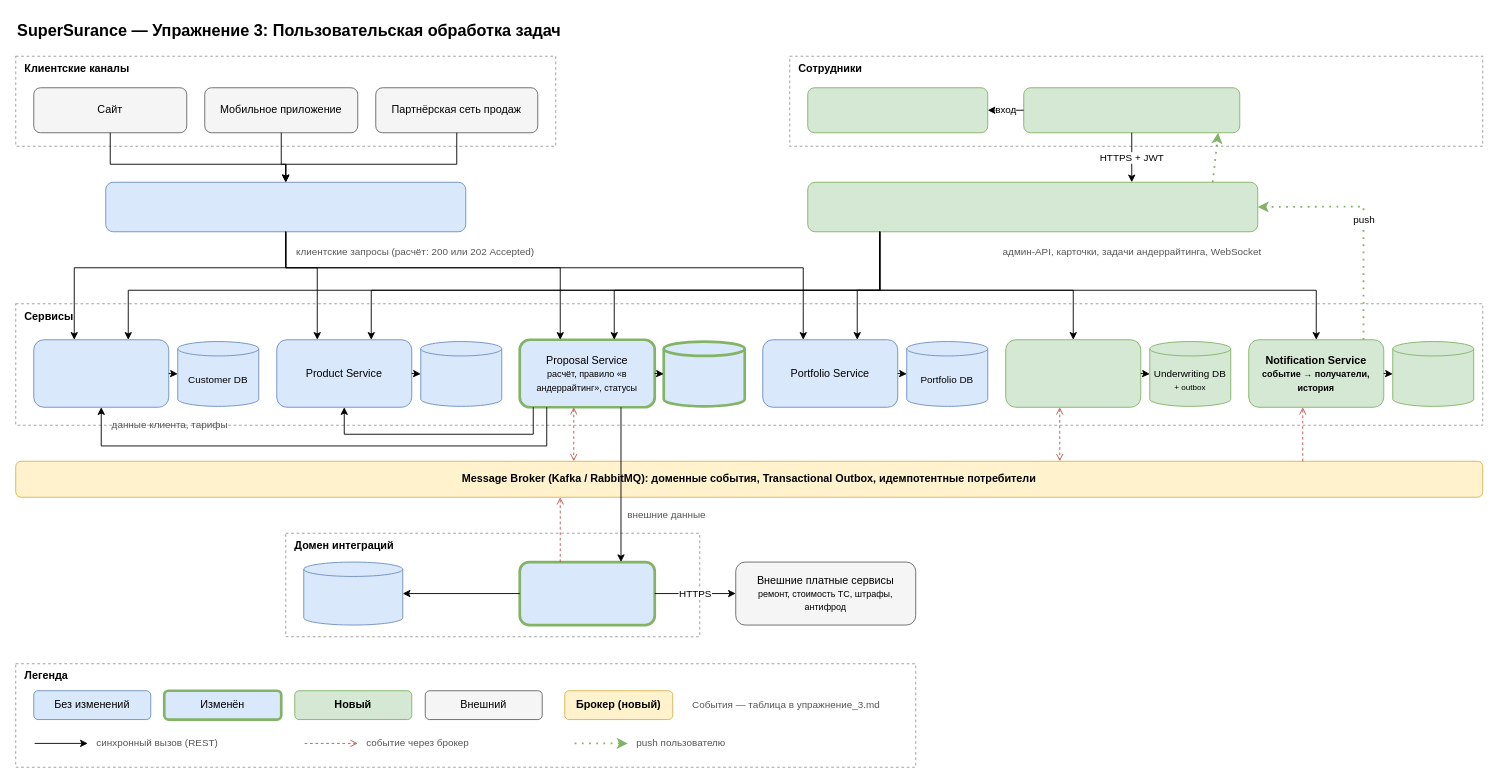
Some shapes in this 1499 by 783 pixel diagram are drawn without their labels. The shapes that lost their labels are listed below. From the top down, each one's centre as x and y in pixels, then its label:
the point at 897,110: Identity Provider SSO, роли
the point at 1131,110: Back-office андеррайтеры, администраторы
the point at 285,206: API Gateway маршрутизация, rate limiting, аутентификация каналов
the point at 1032,206: Internal Gateway / BFF токен и роли, API Composition, WebSocket
the point at 101,373: Customer Service
the point at 461,373: Product DB
the point at 704,373: Proposal DB + outbox
the point at 1073,373: Underwriting Service очередь, claim, SLA, аудит
the point at 1433,373: Notification DB
the point at 353,593: Redis кэш ответов партнёров
the point at 587,593: Integration Service Cache-Aside, ACL, Retry, Circuit Breaker
